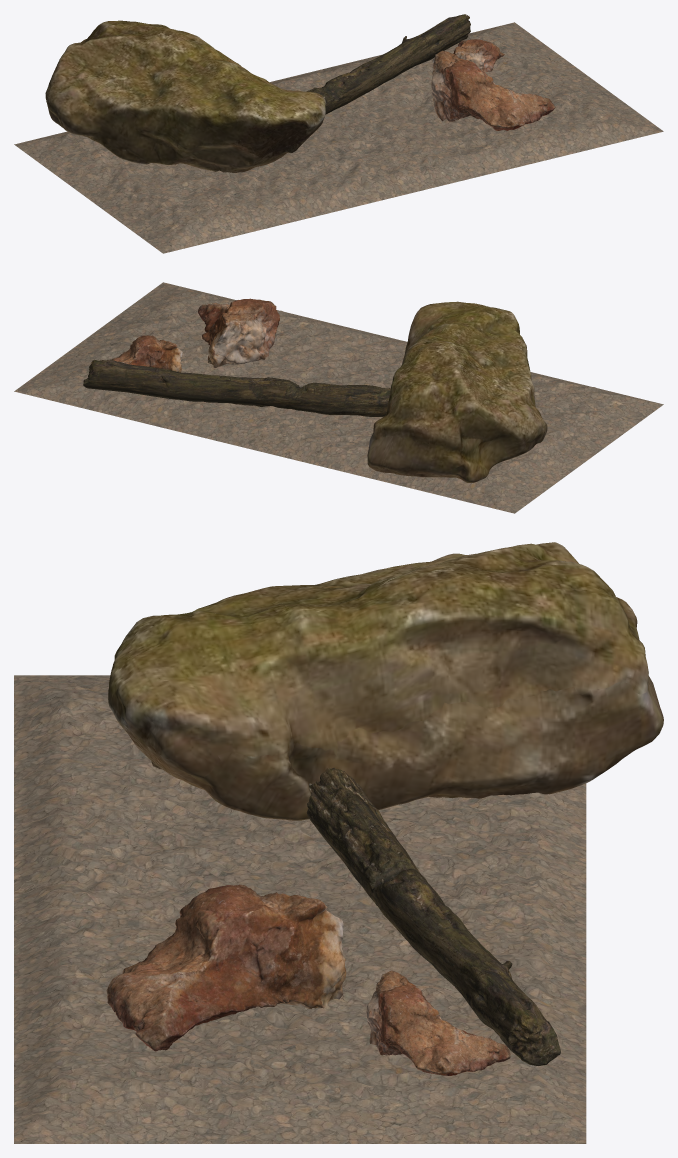
Rendered from aquarium-substrate-hd.glb.
3 renders of one model, top to bottom at view 1: azimuth 30°, elevation 25°; view 2: azimuth 150°, elevation 25°; view 3: azimuth 270°, elevation 25°, orthographic. The views are drawn at different scales.
Visible parts, largest first — view 1: gravel, rock_moss_set_01:rock_moss_set_01_rock05, stone_01:stone_01 (×2), dead_tree_trunk:dead_tree_trunk; view 2: gravel, rock_moss_set_01:rock_moss_set_01_rock05, dead_tree_trunk:dead_tree_trunk, stone_01:stone_01 (×2); view 3: gravel, rock_moss_set_01:rock_moss_set_01_rock05, stone_01:stone_01 (×2), dead_tree_trunk:dead_tree_trunk.
Part boxes in pixels (<box>): gravel: <box>14,22,663,253</box>; rock_moss_set_01:rock_moss_set_01_rock05: <box>45,20,325,172</box>; stone_01:stone_01 (×2): <box>431,39,555,130</box>; dead_tree_trunk:dead_tree_trunk: <box>306,14,470,114</box>; gravel: <box>14,282,663,513</box>; rock_moss_set_01:rock_moss_set_01_rock05: <box>367,301,547,482</box>; dead_tree_trunk:dead_tree_trunk: <box>83,359,390,416</box>; stone_01:stone_01 (×2): <box>111,298,279,372</box>; gravel: <box>14,675,586,1143</box>; rock_moss_set_01:rock_moss_set_01_rock05: <box>108,542,663,820</box>; stone_01:stone_01 (×2): <box>106,884,510,1075</box>; dead_tree_trunk:dead_tree_trunk: <box>307,767,560,1065</box>.
Bounding box in the file's own units: 0.62 × 0.13 × 0.3634.
4 materials, 4 textured.
